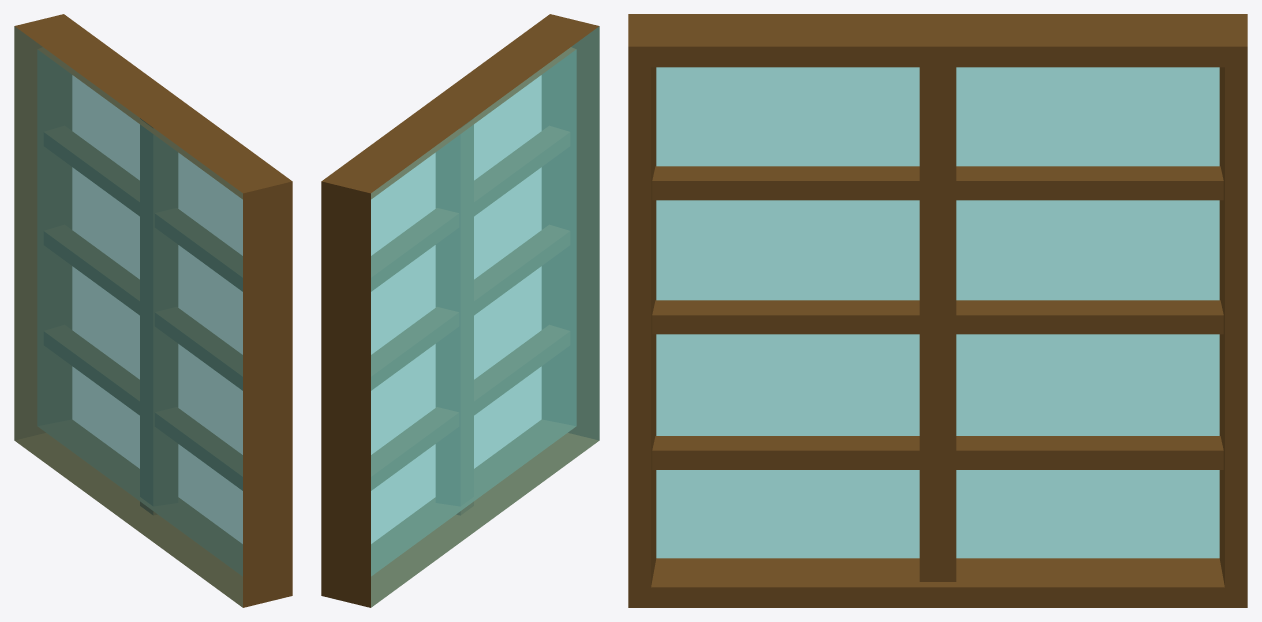
Rendered from mesh_ventana2.fbx.
3 renders of one model, left to right at view 1: azimuth 30°, elevation 25°; view 2: azimuth 150°, elevation 25°; view 3: azimuth 270°, elevation 25°, orthographic. The views are drawn at different scales.
Visible parts, largest first — view 1: Cube.001; view 2: Cube.001; view 3: Cube.001.
Part boxes in pixels (x1,y1,x2,y2): Cube.001: [14, 14, 292, 607]; Cube.001: [321, 14, 599, 607]; Cube.001: [628, 14, 1247, 607].
Bounding box in the file's own units: 12.5 × 100 × 100.
